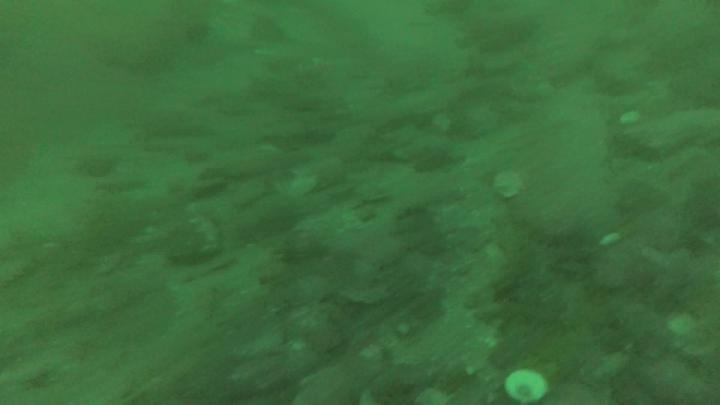holothurian: (519, 223, 587, 246)
scallop: (504, 362, 549, 405), (492, 166, 527, 206)
